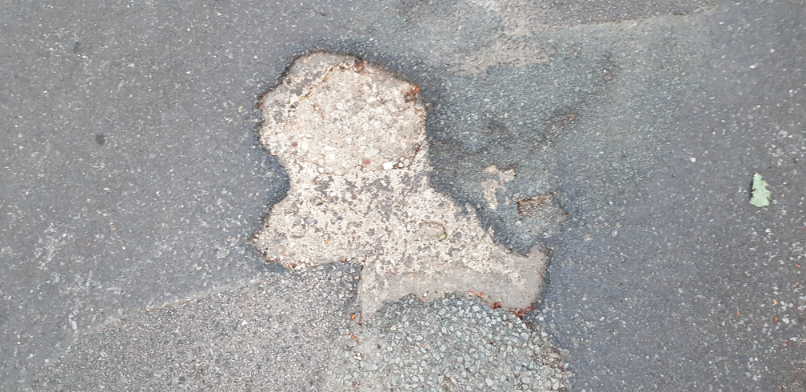pothole: (242, 42, 554, 330)
